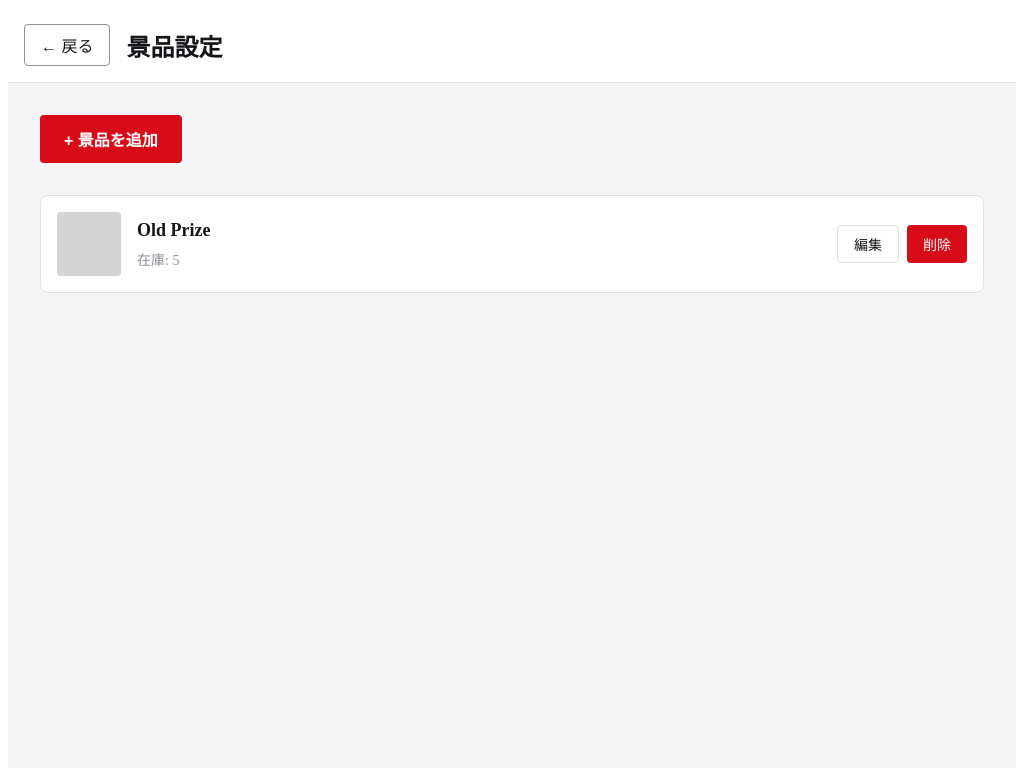
Test: SettingsScreen › 景品編集 › should update prize when save button is clicked in edit mode
This screenshot has width=1024, height=768.
Click the button with test id "edit-prize-button-0". click: (868, 244)
box: [837,225,899,263]
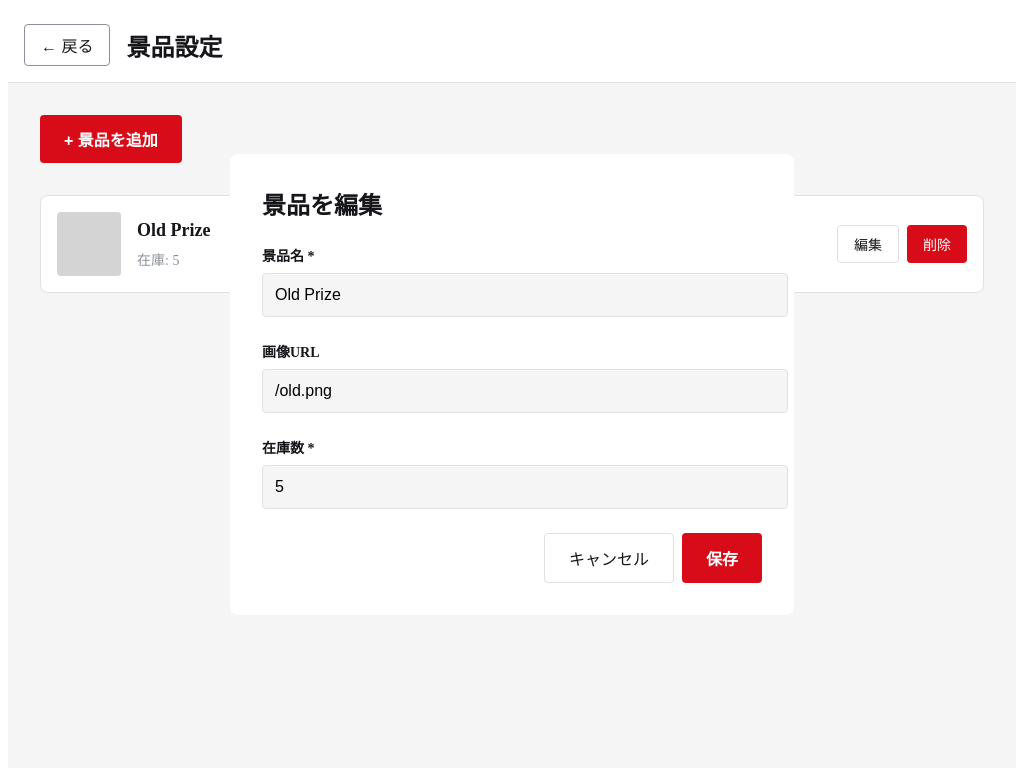
Replace the text in the field labelled "景品名 *" with "Updated Prize". click: (525, 294)
box: [262,272,788,316]
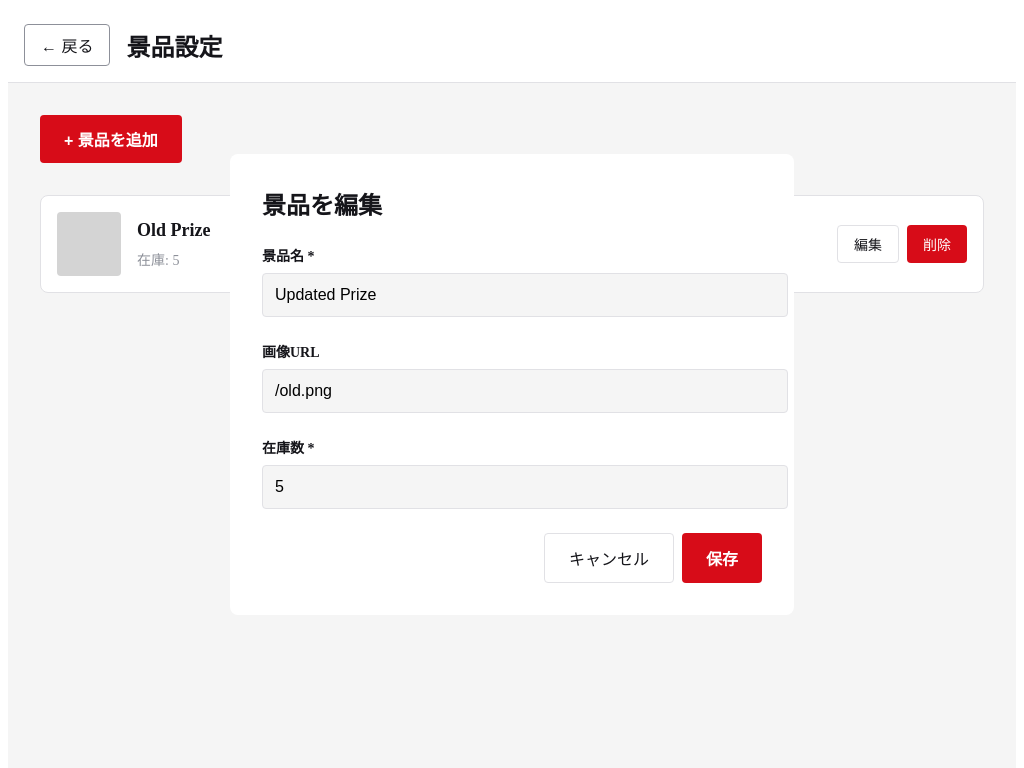
Replace the text in the number field labelled "在庫数 *" with "20". click: (525, 486)
box: [262,464,788,508]
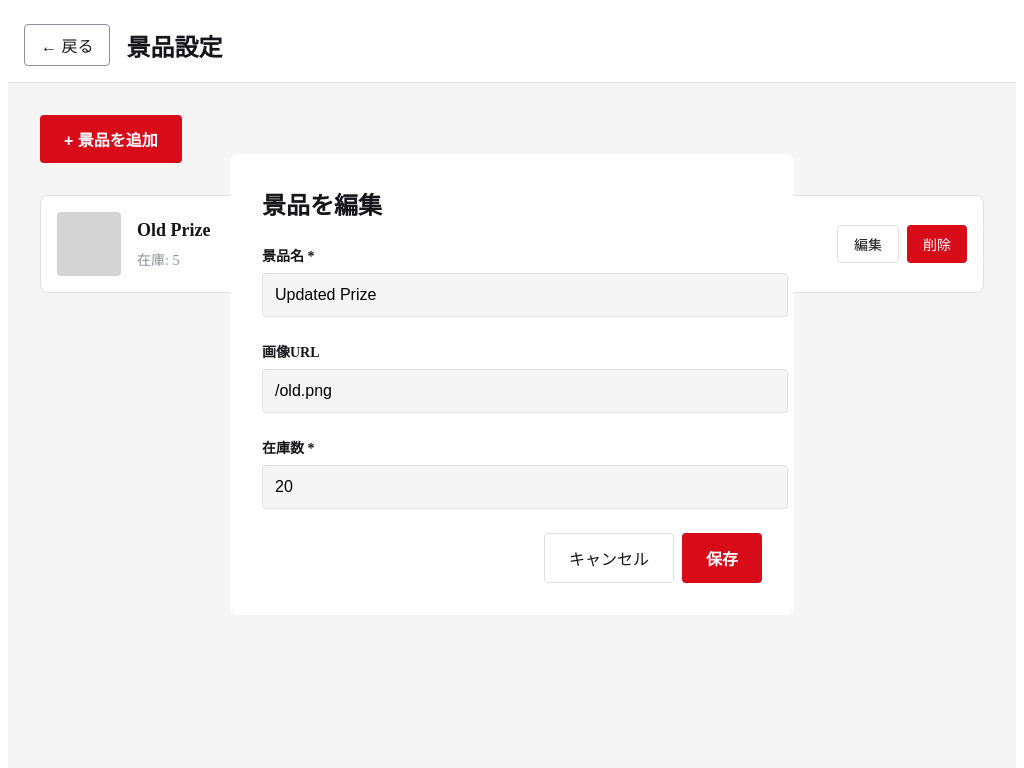
Click the button "保存". click: (722, 558)
box: [682,532,762,582]
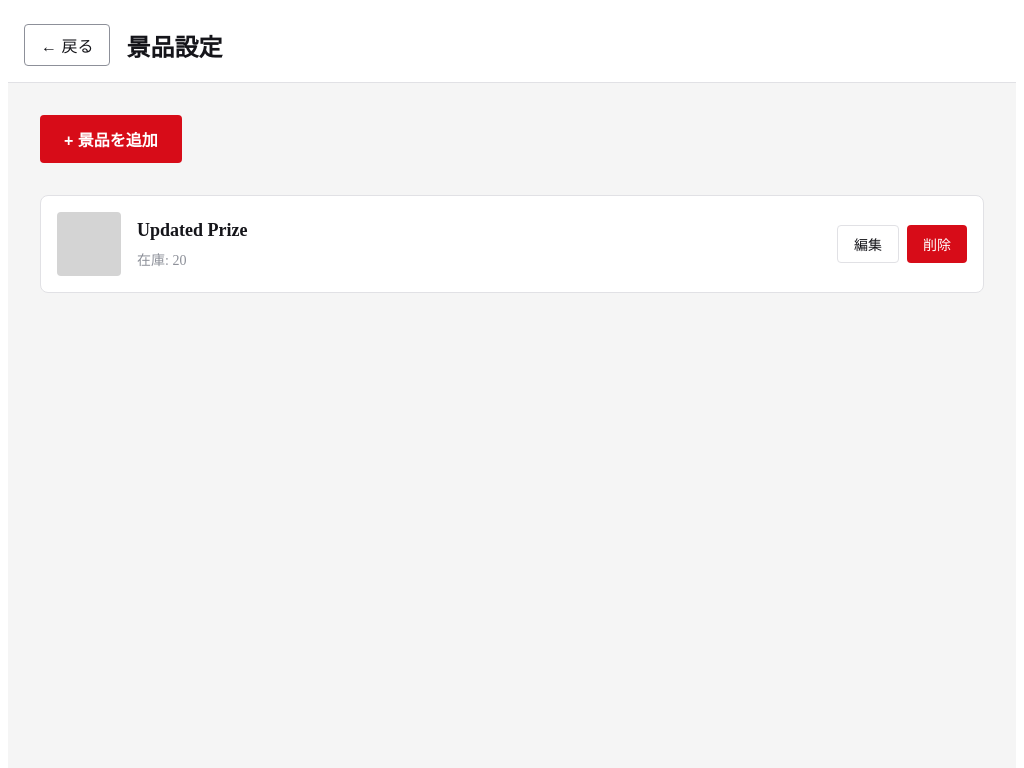
Now the heading "Updated Prize" is shown, box [137,220,248,240]
Now the text "在庫: 20" is shown, box [137,252,186,268]
